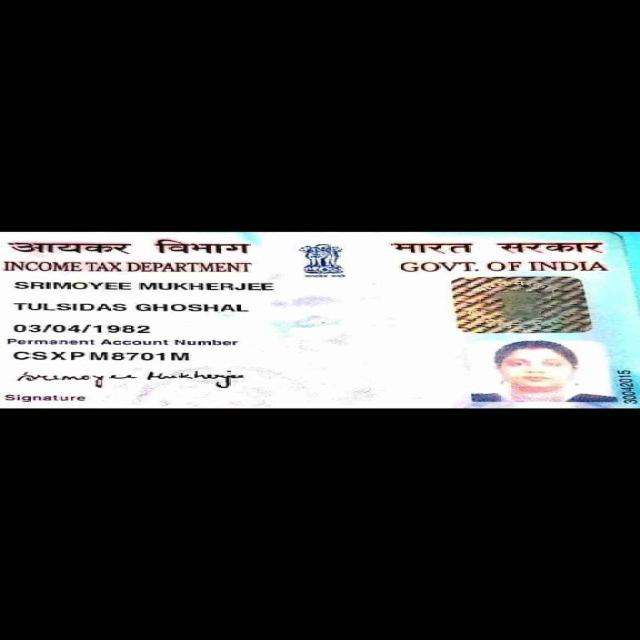pan_card: (0, 232, 639, 413)
